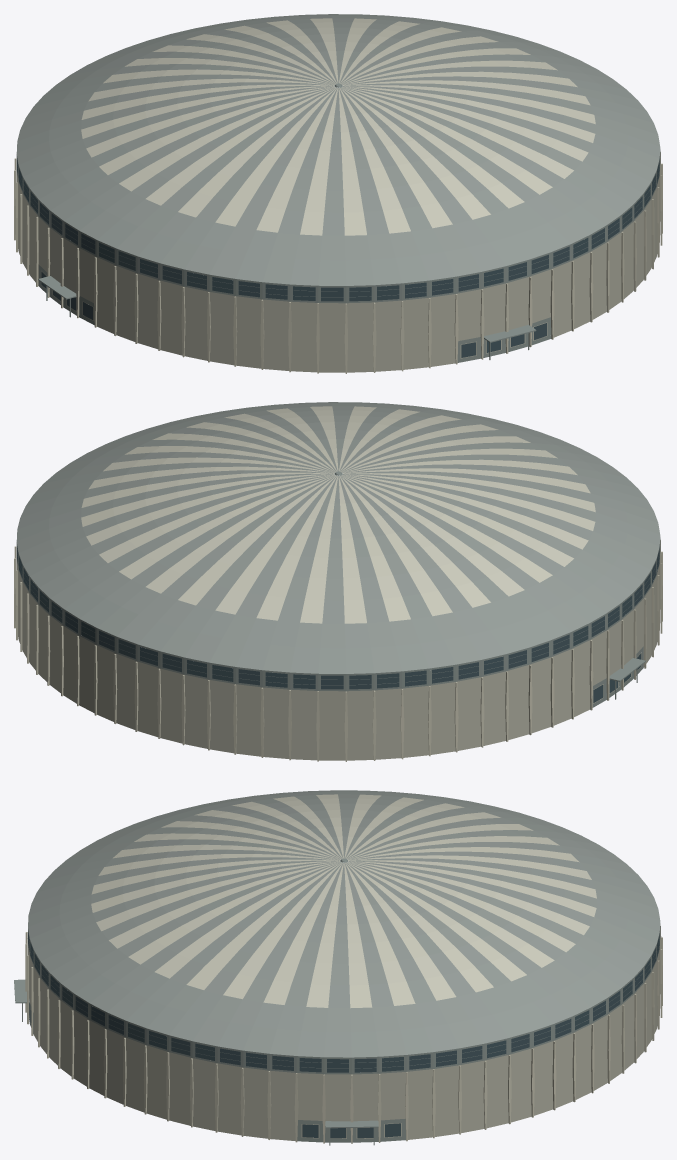
Rendered from astrodome-far.glb.
3 views of the same model, one above another, from view 1: azimuth 30°, elevation 25°; view 2: azimuth 150°, elevation 25°; view 3: azimuth 270°, elevation 25° (orthographic).
Parts seen in each view (by area): view 1: astrodome-0-roof, astrodome-0-roofWhite, astrodome-0-stone, astrodome-0-glass, astrodome-0-trim, astrodome-0-metal; view 2: astrodome-0-roof, astrodome-0-roofWhite, astrodome-0-stone, astrodome-0-trim, astrodome-0-glass, astrodome-0-metal; view 3: astrodome-0-roof, astrodome-0-roofWhite, astrodome-0-stone, astrodome-0-trim, astrodome-0-glass, astrodome-0-metal.
Boxes of the visible parts, x1,y1,x2,y2 form: astrodome-0-roof: (16,14,660,285); astrodome-0-roofWhite: (81,18,595,235); astrodome-0-stone: (16,166,660,372); astrodome-0-glass: (17,150,660,357); astrodome-0-trim: (14,151,662,373); astrodome-0-metal: (16,83,660,362); astrodome-0-roof: (16,402,660,673); astrodome-0-roofWhite: (81,406,595,623); astrodome-0-stone: (16,554,660,760); astrodome-0-trim: (14,539,662,761); astrodome-0-glass: (17,538,660,702); astrodome-0-metal: (16,471,660,709); astrodome-0-roof: (28,790,660,1057); astrodome-0-roofWhite: (91,794,596,1008); astrodome-0-stone: (28,940,660,1140); astrodome-0-trim: (25,925,662,1143); astrodome-0-glass: (28,925,660,1138); astrodome-0-metal: (14,858,660,1145).
Size of the model in its own units: 223 by 55.78 by 220.
